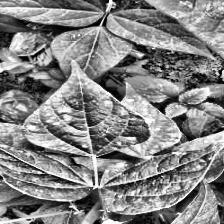Bean Rust: (13, 62, 160, 151), (100, 139, 224, 216), (127, 0, 224, 66), (0, 144, 94, 201)
